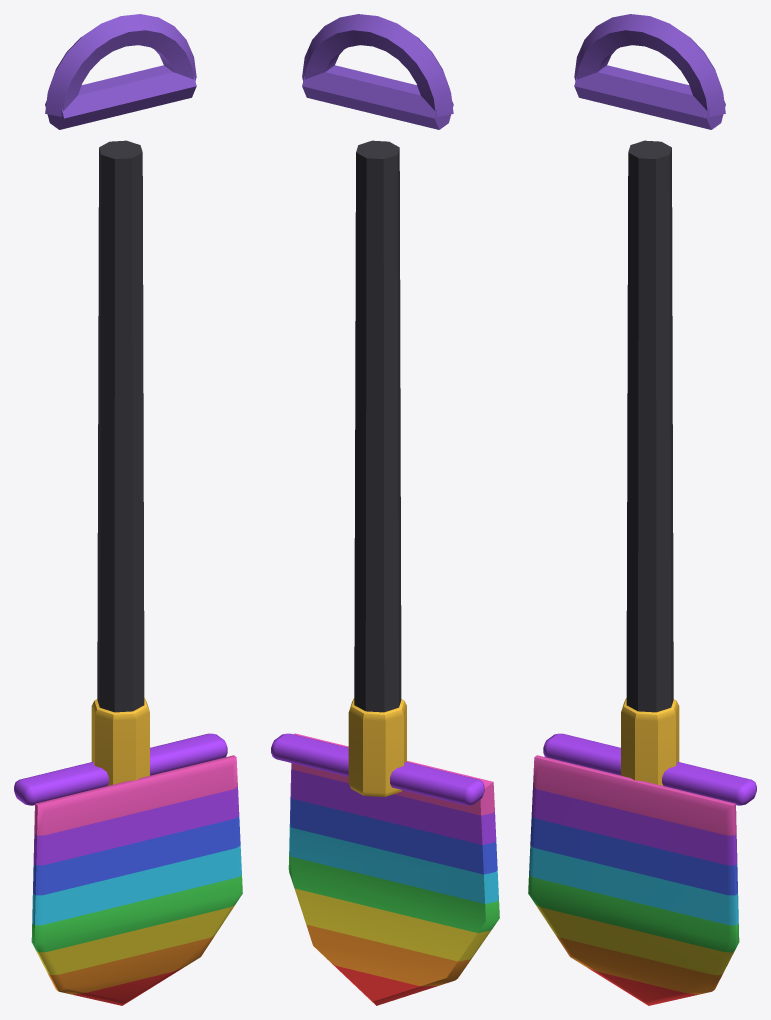
File: RainbowShovel.fbx
3 views of the same model, side by side, from view 1: azimuth 30°, elevation 25°; view 2: azimuth 150°, elevation 25°; view 3: azimuth 330°, elevation 25° (orthographic).
Parts seen in each view (by area): view 1: RainbowShovel; view 2: RainbowShovel; view 3: RainbowShovel.
Boxes of the visible parts, x1,y1,x2,y2 form: RainbowShovel: (14,14,242,1005); RainbowShovel: (271,14,499,1005); RainbowShovel: (528,14,756,1005).
Size of the model in its own units: 0.88 by 3.99 by 0.2516.
Materials: 1 (1 with a texture image).
